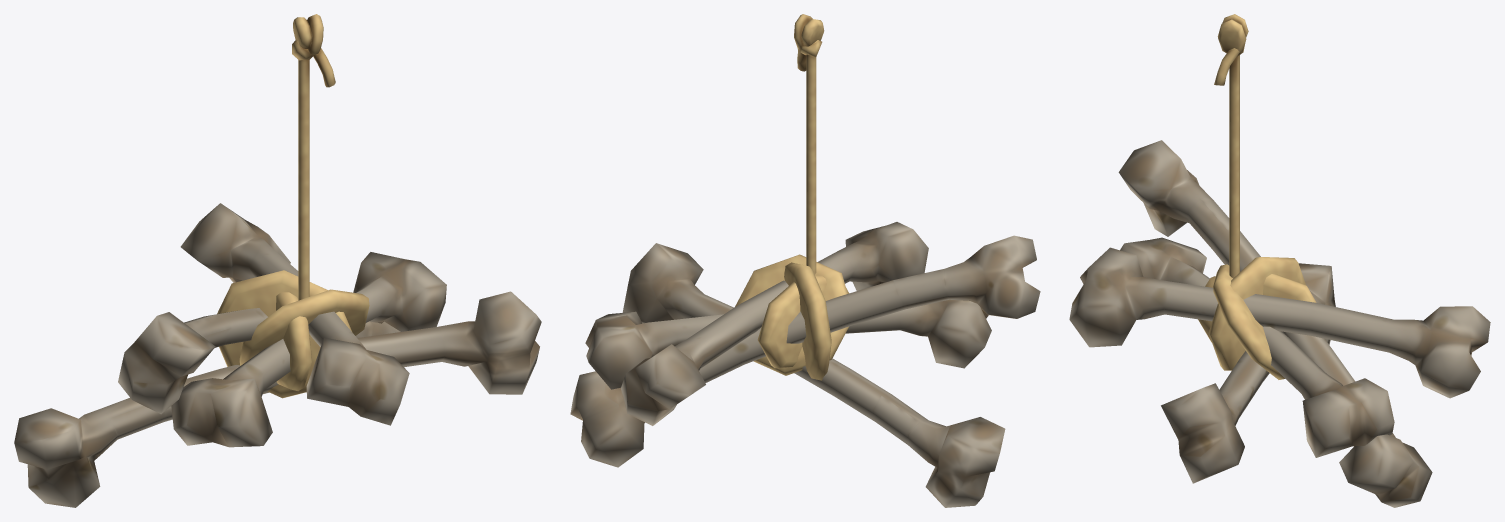
File: Bone.fbx
3 renders of one model, left to right at view 1: azimuth 30°, elevation 25°; view 2: azimuth 150°, elevation 25°; view 3: azimuth 270°, elevation 25°, orthographic. The views are drawn at different scales.
Visible parts, largest first — view 1: U_Bone; view 2: U_Bone; view 3: U_Bone.
Boxes of the visible parts, x1,y1,x2,y2 form: U_Bone: [14, 14, 541, 507]; U_Bone: [570, 14, 1040, 507]; U_Bone: [1069, 14, 1490, 507].
Size of the model in its own units: 77.3 by 73.99 by 64.94.
Materials: 1 (1 with a texture image).
